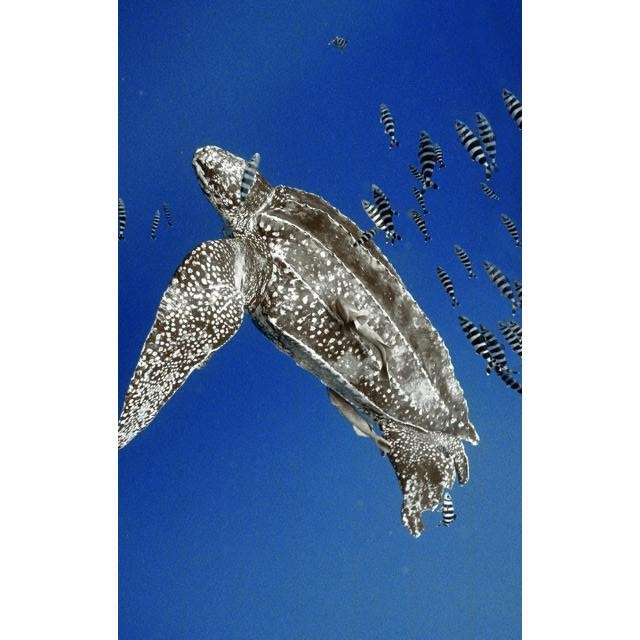turtle: (120, 142, 480, 534)
